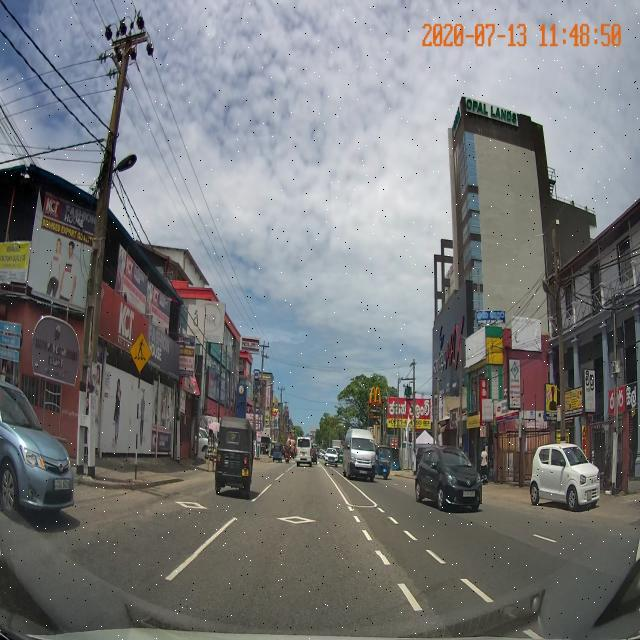diamond: (192, 505, 388, 555)
